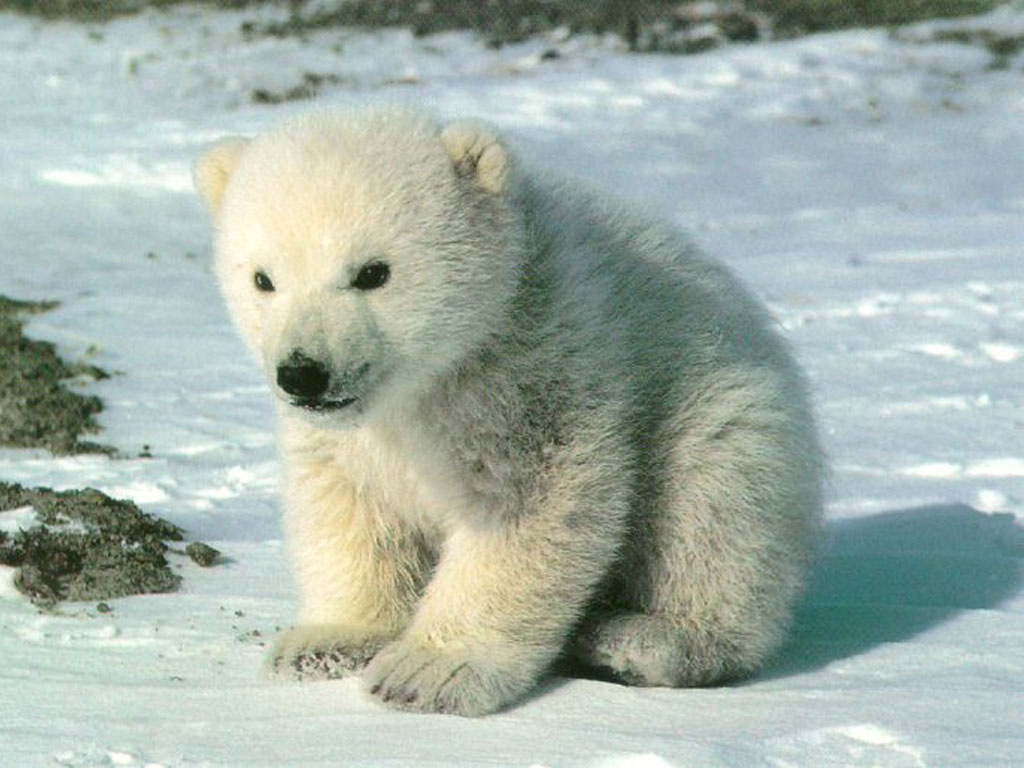Polar Bear: (177, 75, 839, 731)
